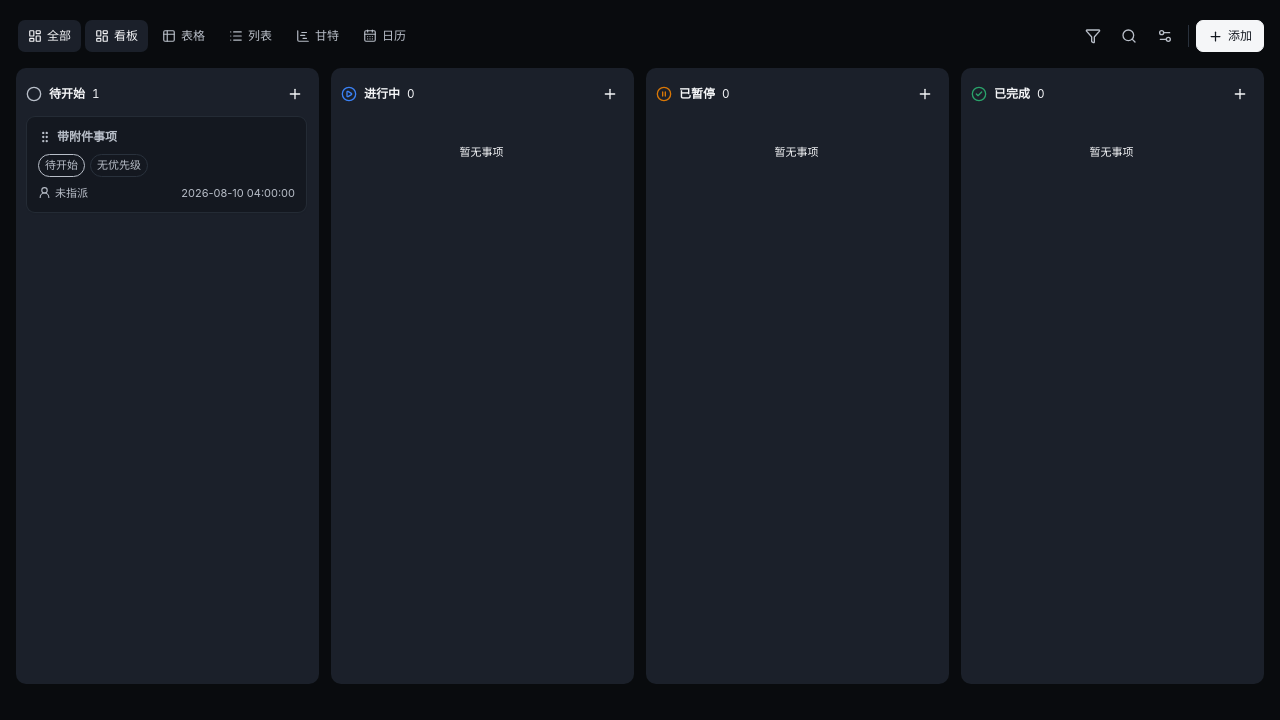
WorkBuddy cloud plan workspace › opens a read-only detail with attached assets and item activity before editing
What coordinates should you click on to do the following:
click the button "带附件事项 待开始 无优先级 未指派 2026-08-10 04:00:00"
I would click on:
 (87, 136)
Its box is x1=27 y1=117 x2=306 y2=212.
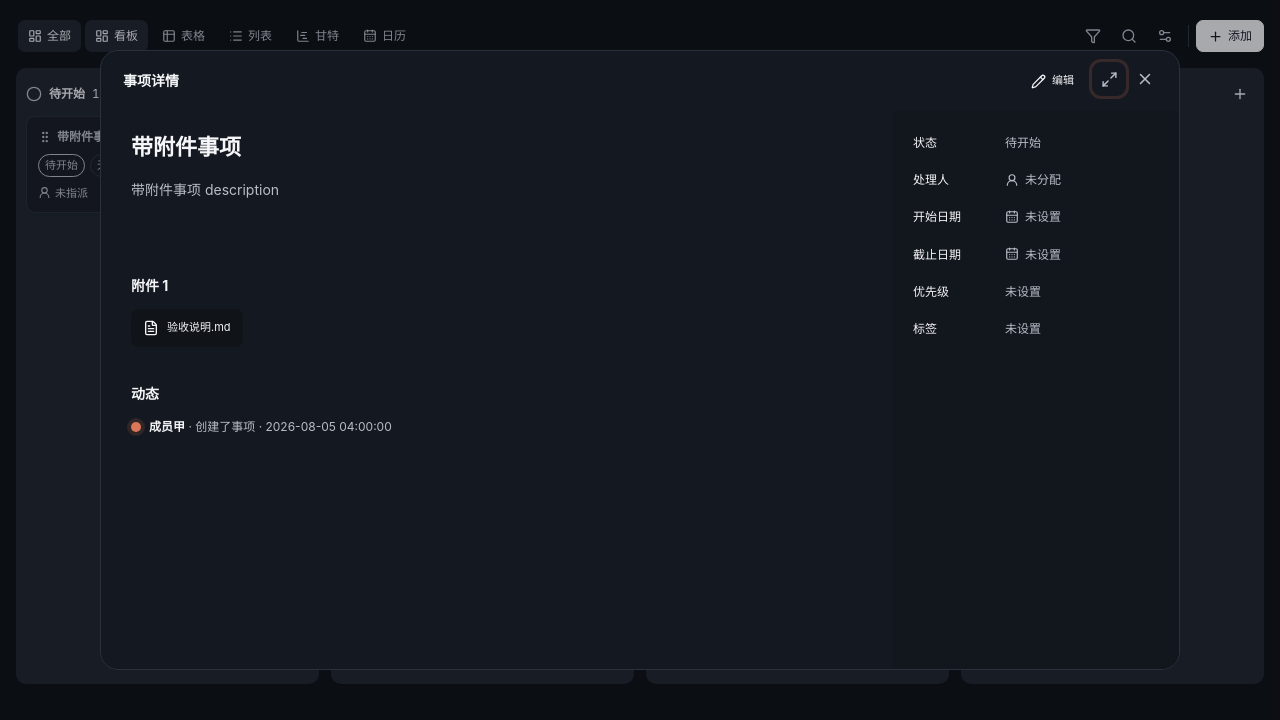
Expected: the dialog "编辑待办" is not shown
Now the text "验收说明.md" is shown, box x1=167 y1=319 x2=230 y2=337
Now the text "成员甲 · 创建了事项 · 2026-08-05 04:00:00" is shown, box x1=149 y1=420 x2=392 y2=434
What coordinates should you click on to do the following:
click the button "验收说明.md"
I would click on:
 (187, 328)
Its box is x1=131 y1=309 x2=242 y2=347.
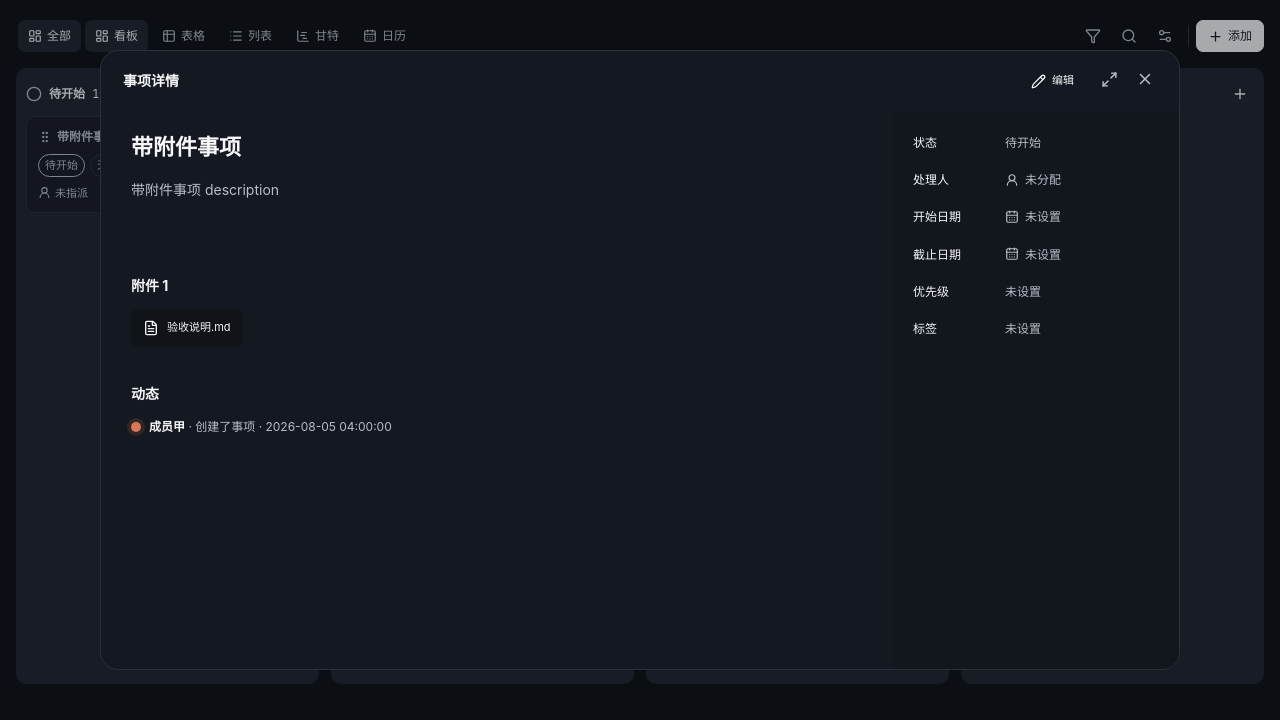
What coordinates should you click on to do the following:
click the button "编辑"
I would click on:
 (1052, 81)
Its box is x1=1020 y1=65 x2=1085 y2=97.
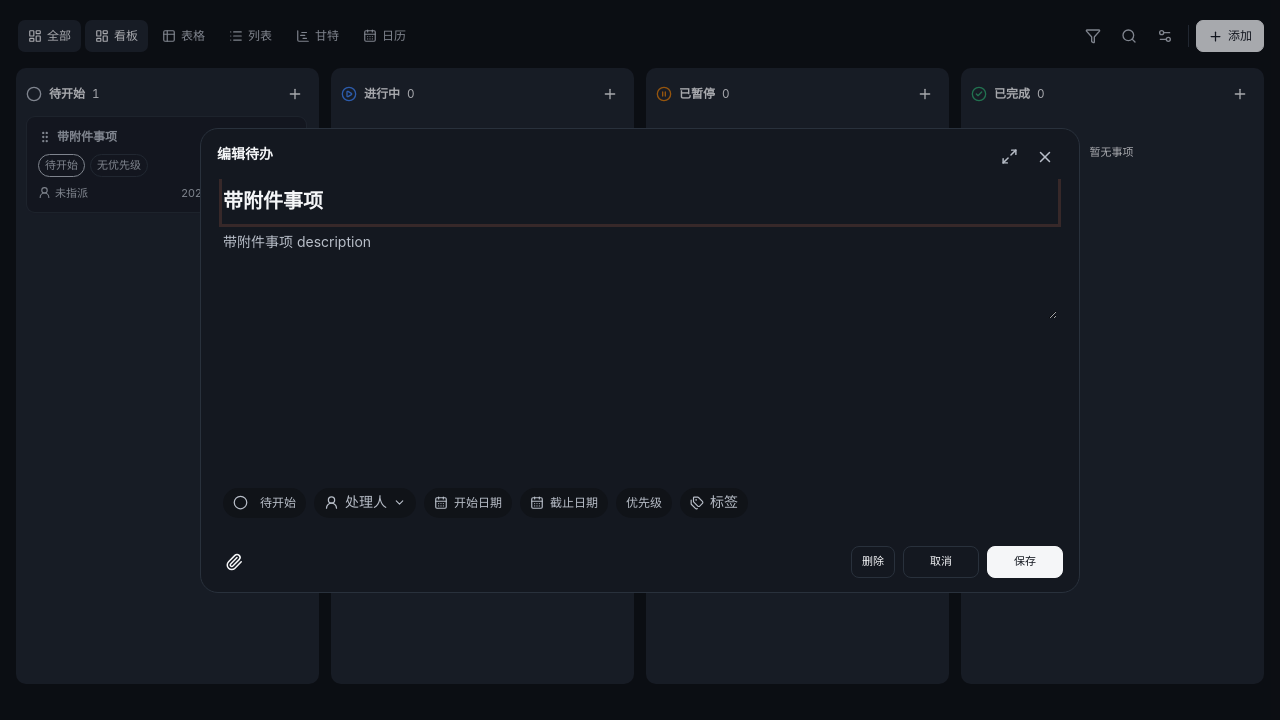
Now the dialog "编辑待办" is shown, box x1=200 y1=128 x2=1080 y2=592
